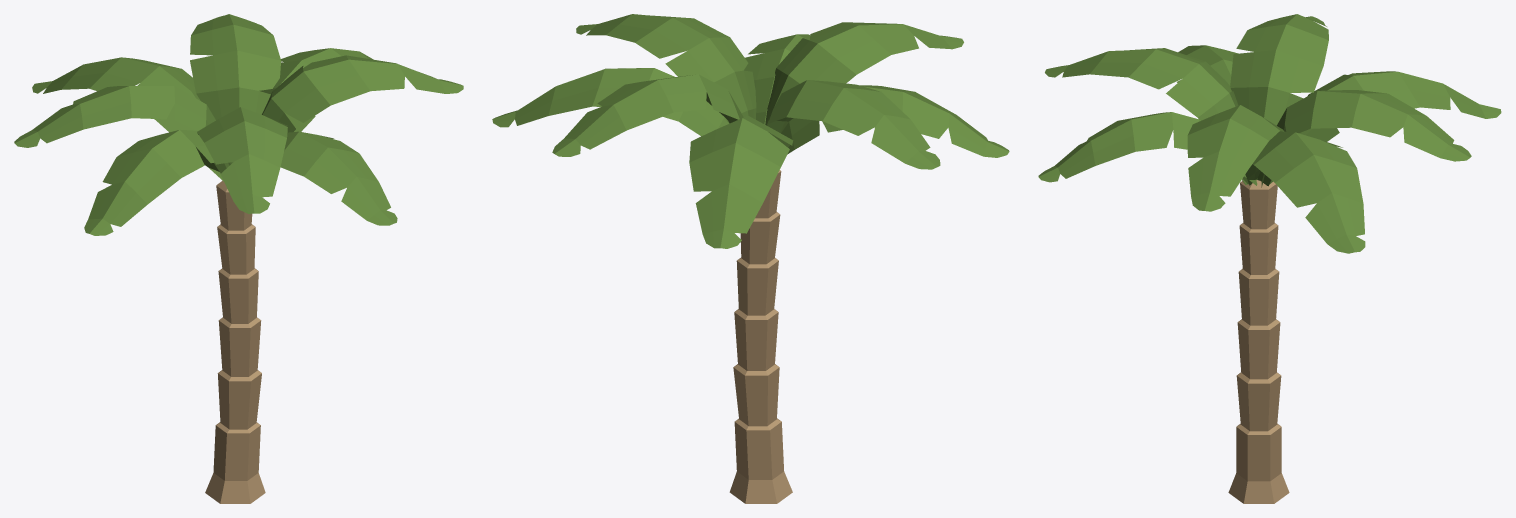
Rendered from Tree_Palm.fbx.
3 views of the same model, side by side, from view 1: azimuth 30°, elevation 25°; view 2: azimuth 150°, elevation 25°; view 3: azimuth 270°, elevation 25° (orthographic). The views are drawn at different scales.
Visible parts, largest first — view 1: Tree_Palm; view 2: Tree_Palm; view 3: Tree_Palm.
Part boxes in pixels (bbox=[...]): Tree_Palm: bbox=[14, 14, 463, 503]; Tree_Palm: bbox=[492, 14, 1009, 503]; Tree_Palm: bbox=[1038, 14, 1501, 503].
Size of the model in its own units: 4.13 by 4.09 by 4.06.
